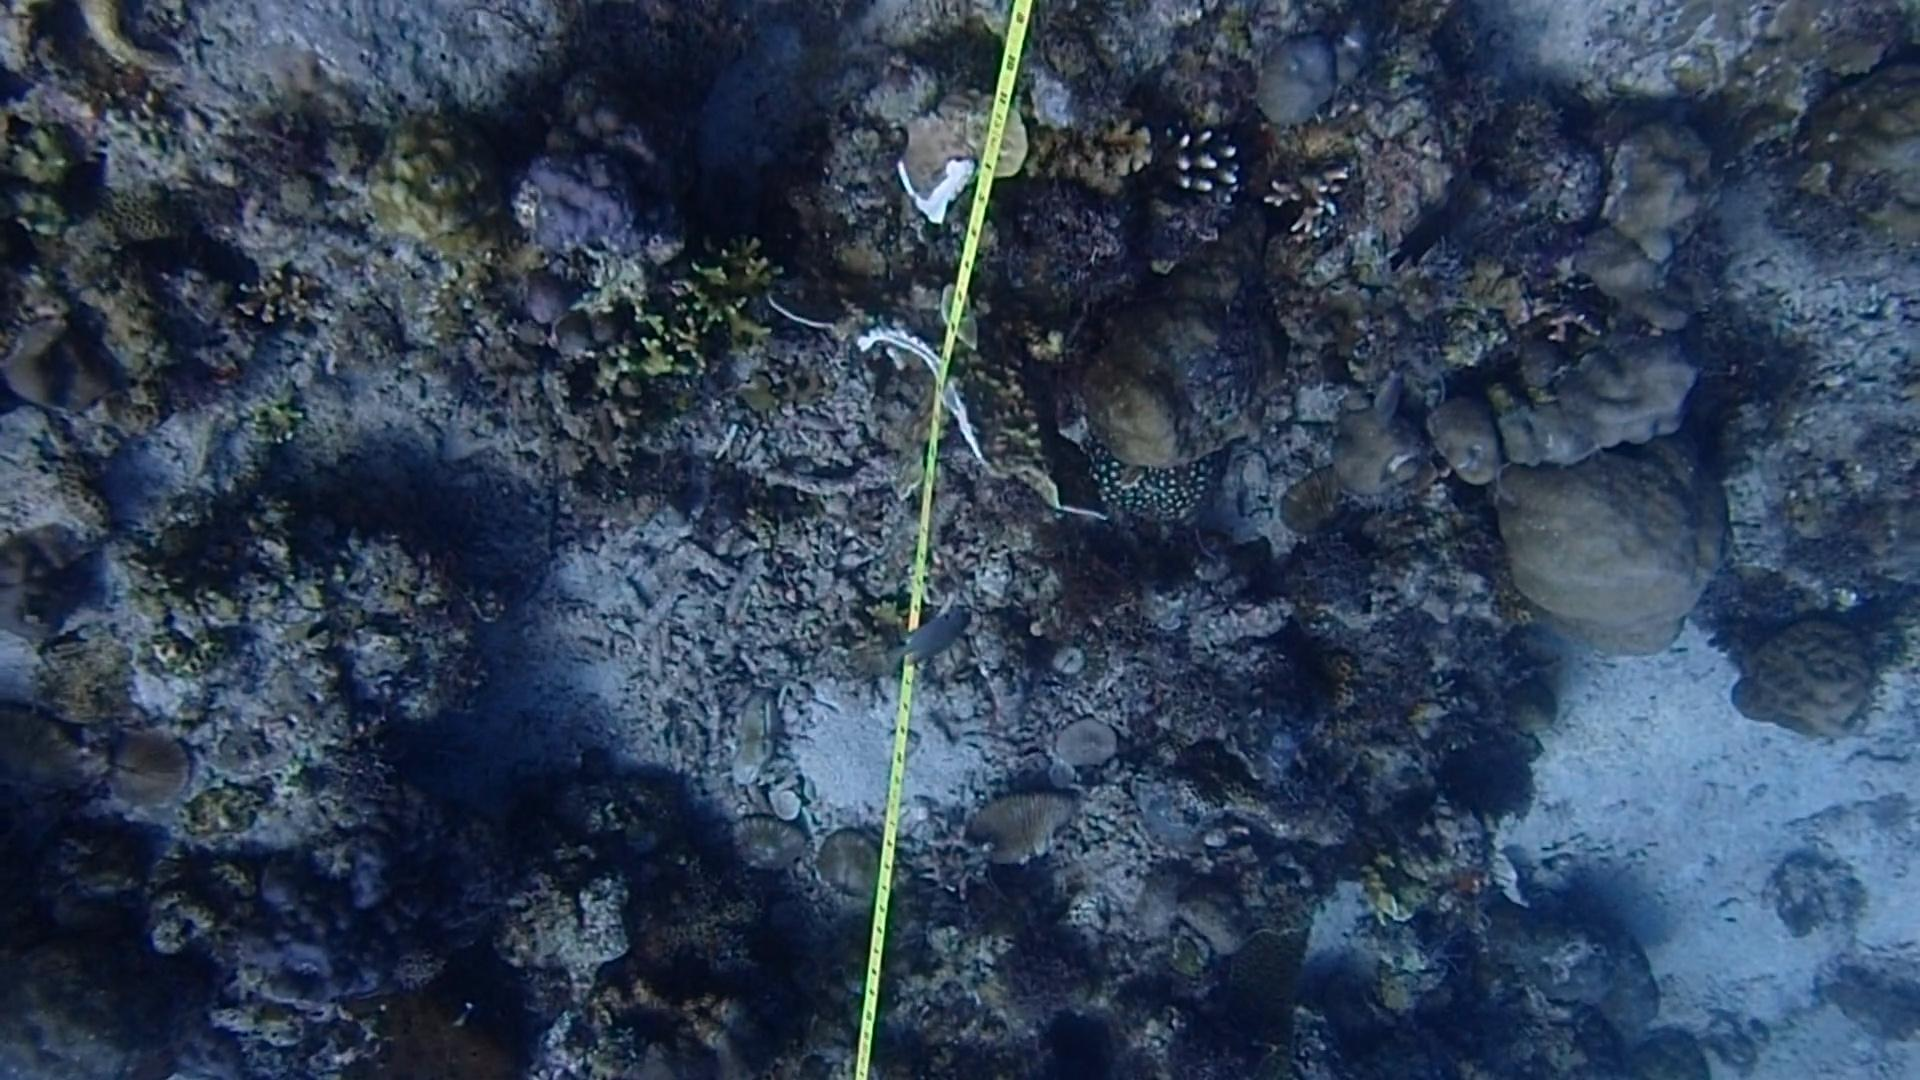Light Fish: (890, 593, 981, 673)
